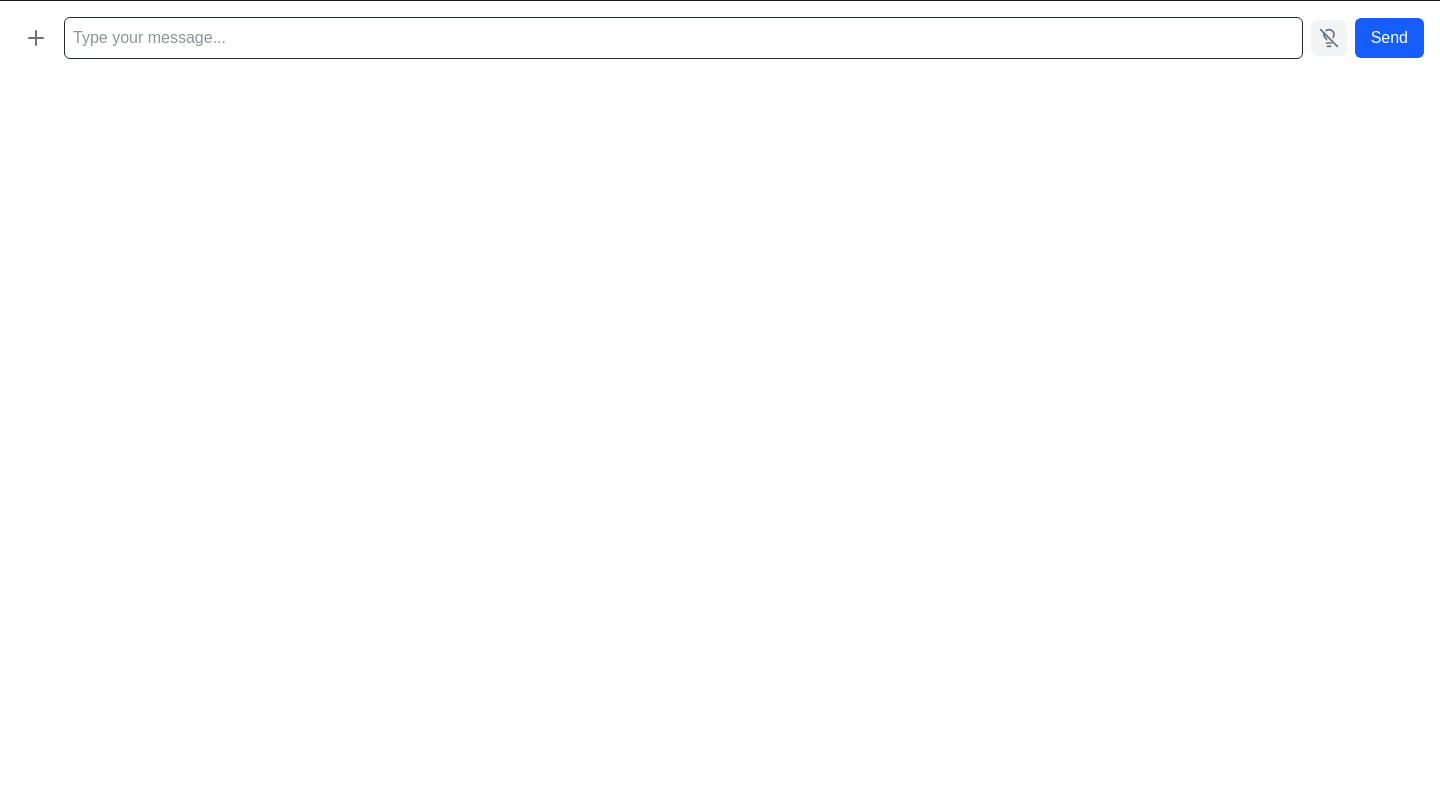
Test: ChatInput Component › should cancel sending when PII modal cancel is clicked
The width and height of the screenshot is (1440, 810).
In the field with placeholder "Type your message...": (683,38) [64,17,1303,59], type "test@example.com"
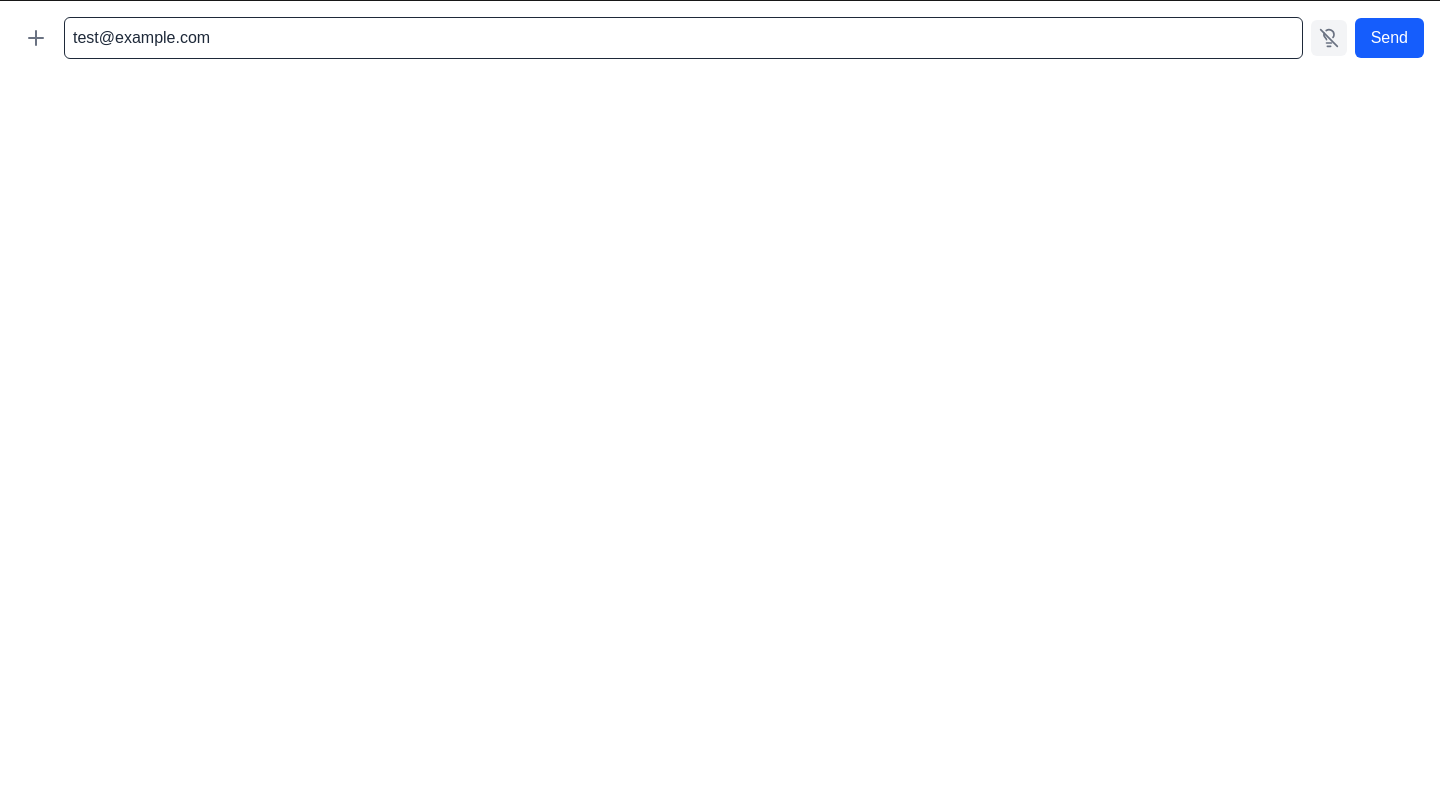
Submit the form from the button "Send", box [1355,18,1424,58]
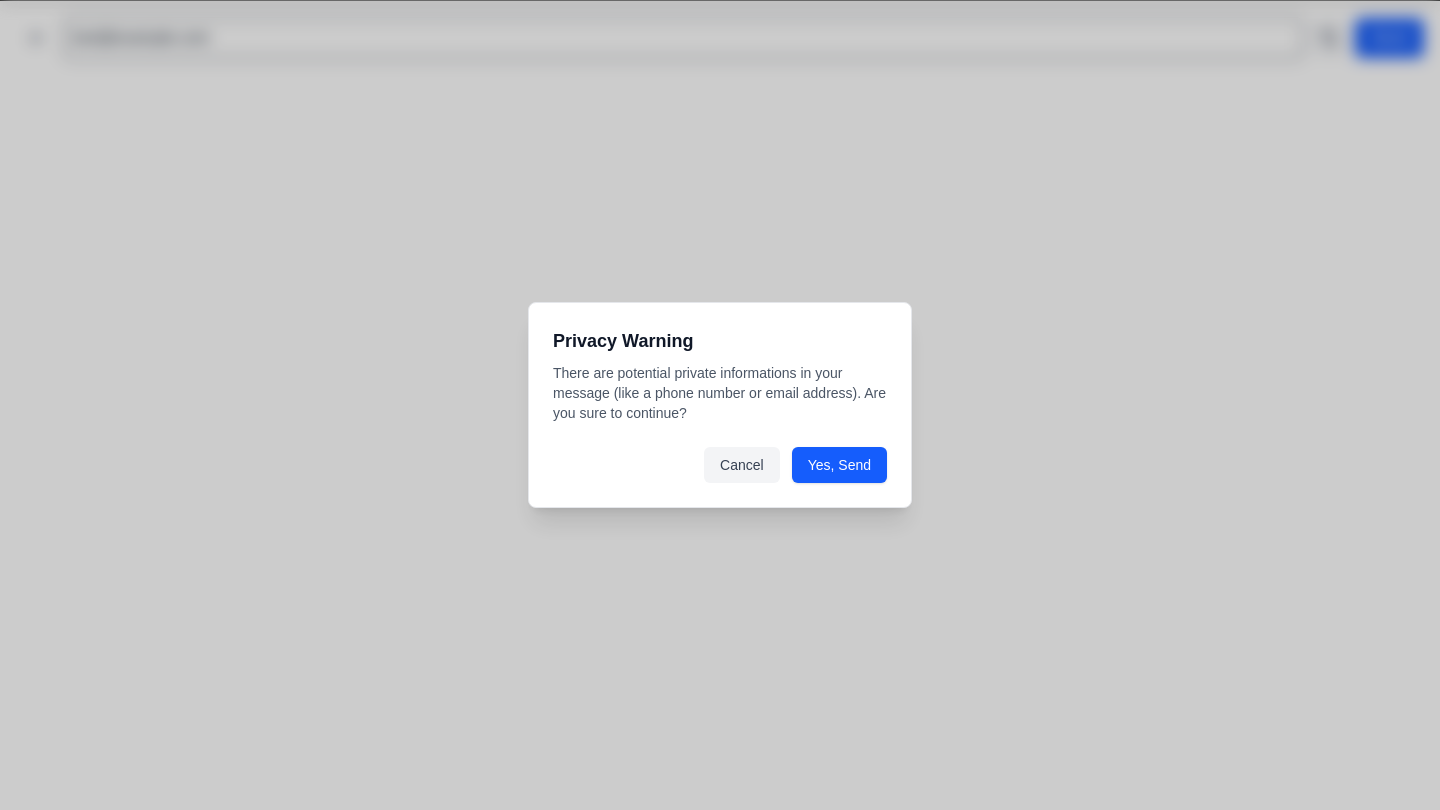
Click the button "Cancel": (742,465) [704,447,780,483]
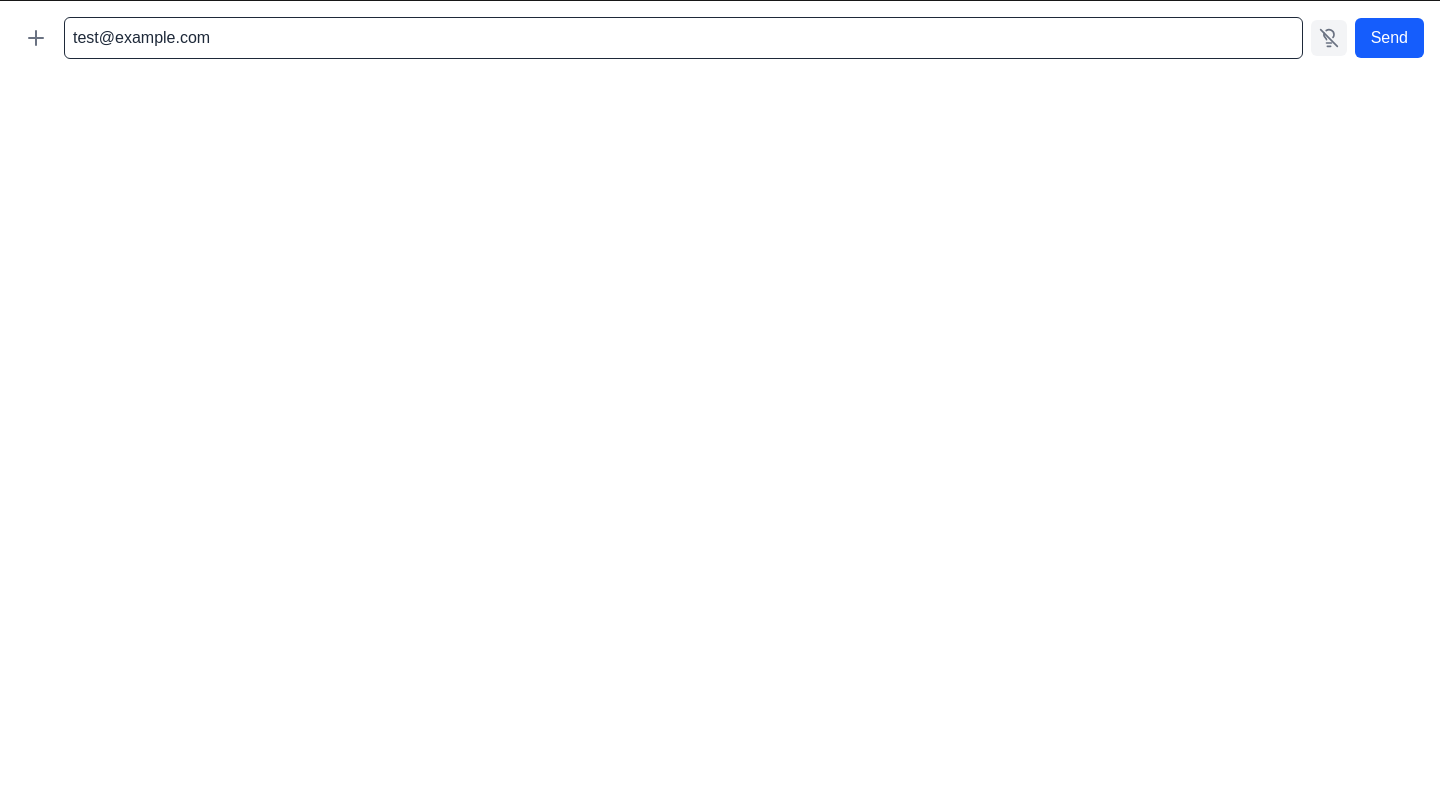
Expected: the heading "Privacy Warning" is gone
